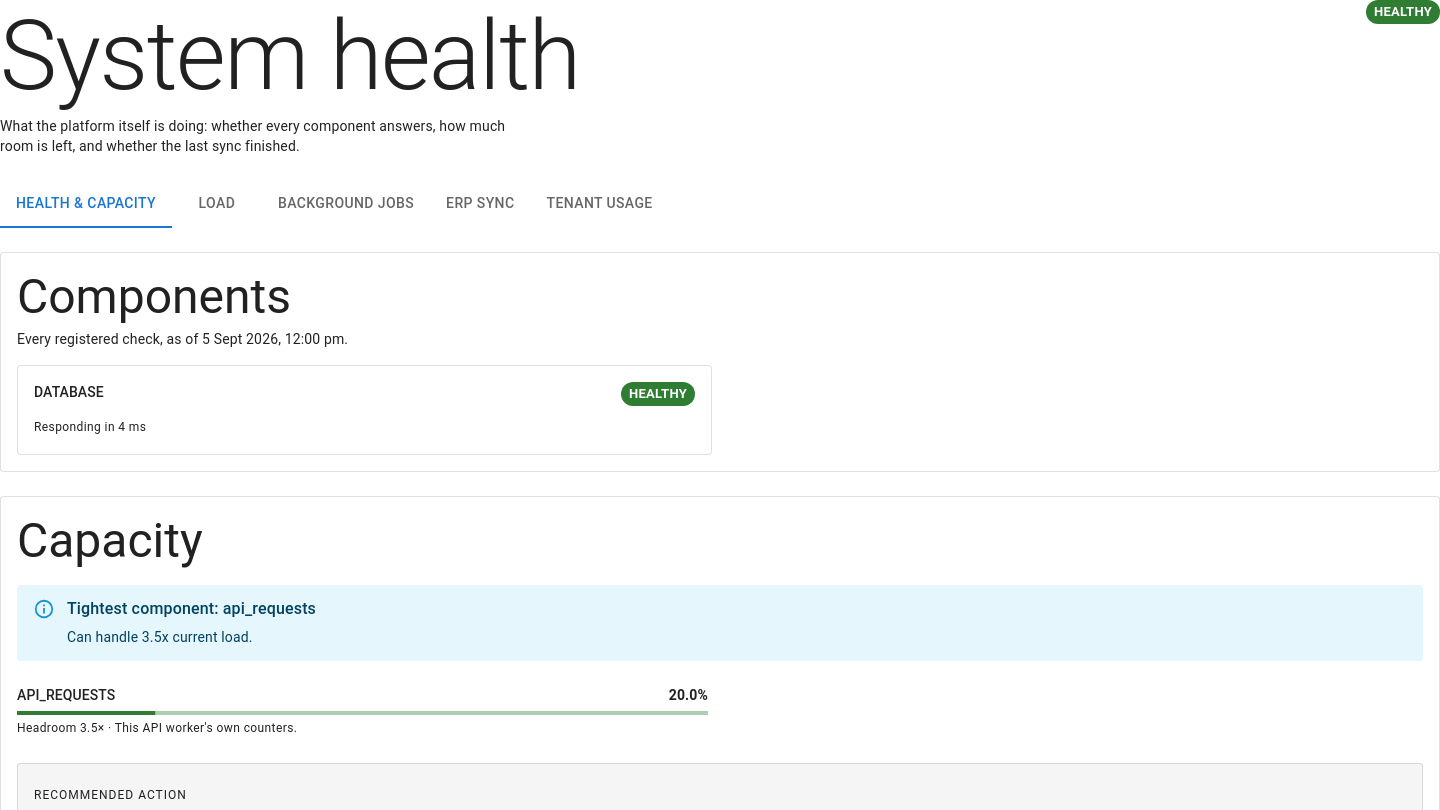
Scenario: an error rate with no denominator › still shows a real zero when the worker measured one
Click the tab "Load" at x=217, y=204, box [172,180,262,228]
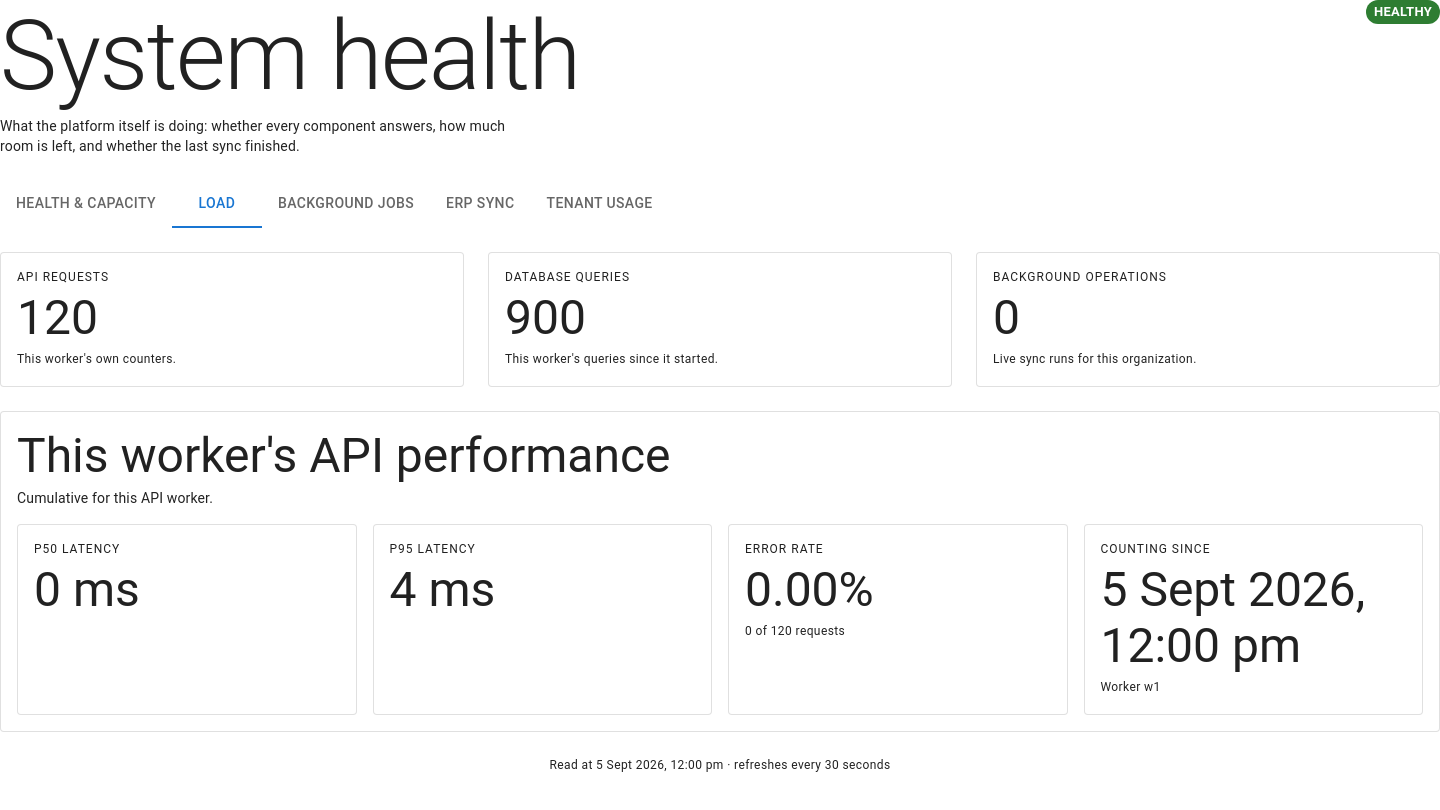
Now the heading "0.00%" is shown, box [745,561,874,618]
Now the heading "0 ms" is shown, box [34,561,140,618]
